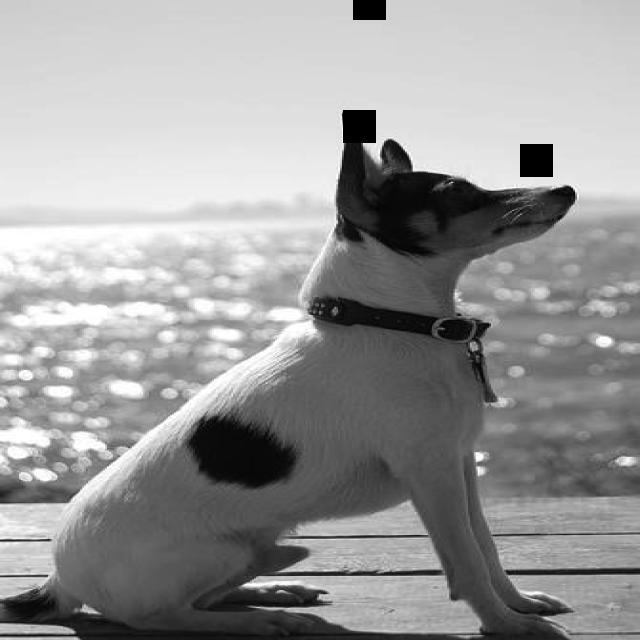adult_dog: (2, 140, 575, 631)
